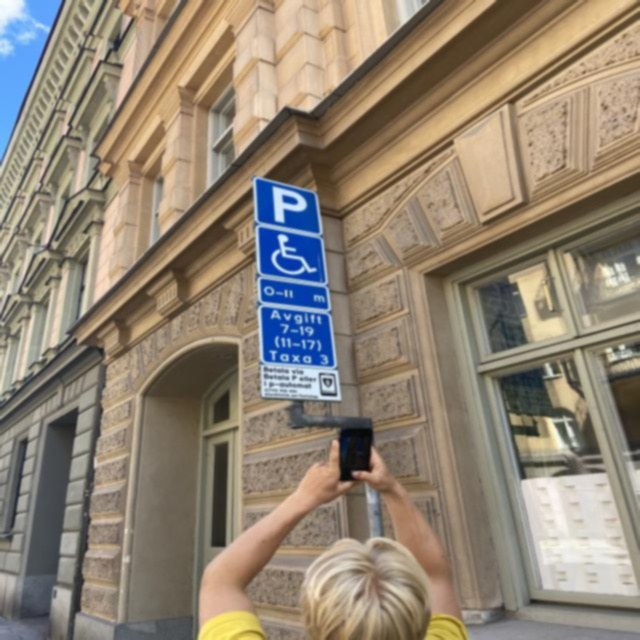P-skylt: (252, 174, 322, 236)
